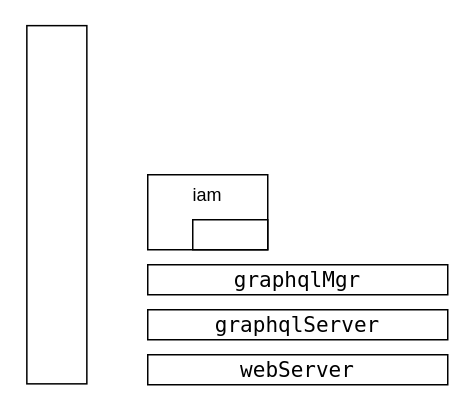
Image size: 474x413. Some labels were removed from this diagram. Each missing label, with the box of its shape:
graphql: (191, 218, 268, 250)
logger: (25, 24, 87, 384)
